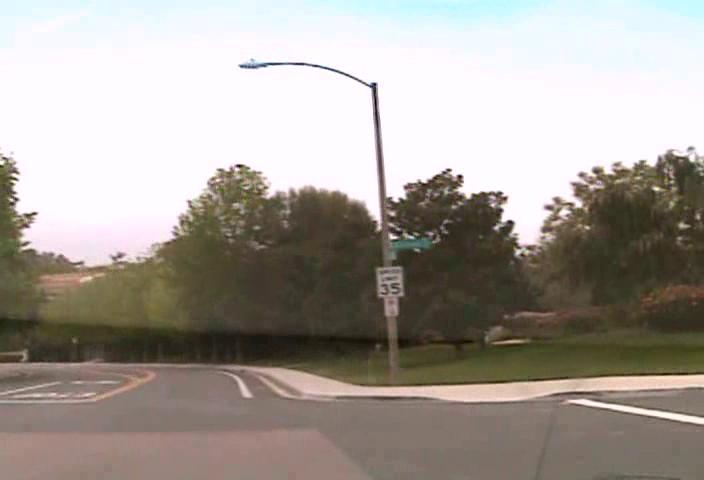speedLimit35: (375, 264, 405, 298)
